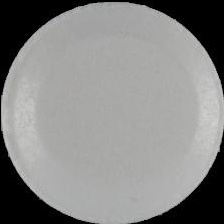58118-0014: (0, 0, 224, 224)
